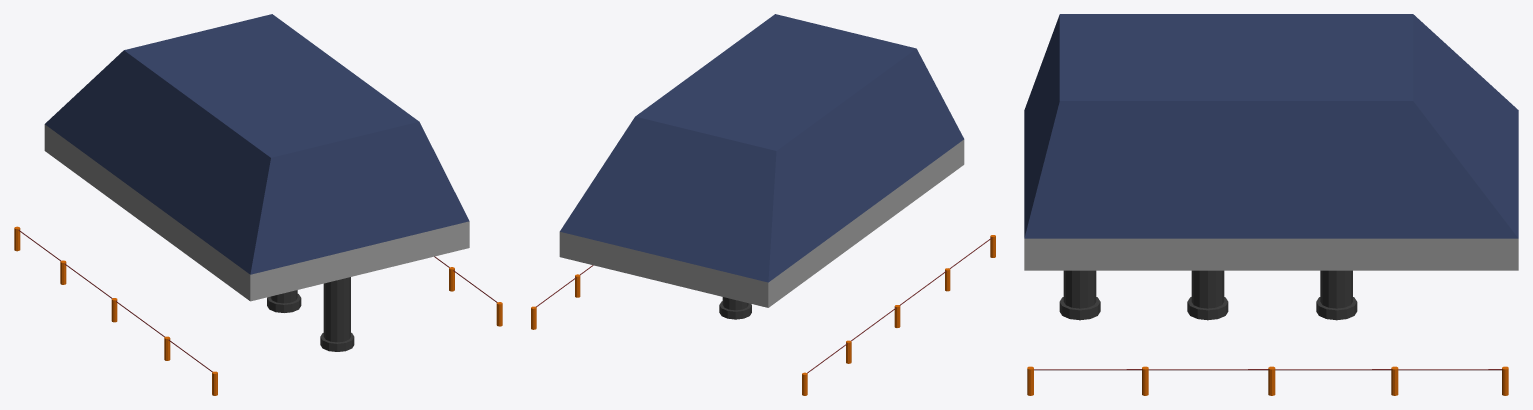
File: ChairTop.fbx
3 renders of one model, left to right at view 1: azimuth 30°, elevation 25°; view 2: azimuth 150°, elevation 25°; view 3: azimuth 270°, elevation 25°, orthographic. The views are drawn at different scales.
Visible parts, largest first — view 1: ChairBase2; view 2: ChairBase2; view 3: ChairBase2.
Part boxes in pixels (x1,y1,x2,y2): ChairBase2: (14, 14, 502, 395); ChairBase2: (531, 14, 995, 395); ChairBase2: (1024, 14, 1518, 395).
Bounding box in the file's own units: 58.37 × 40.69 × 71.81.
